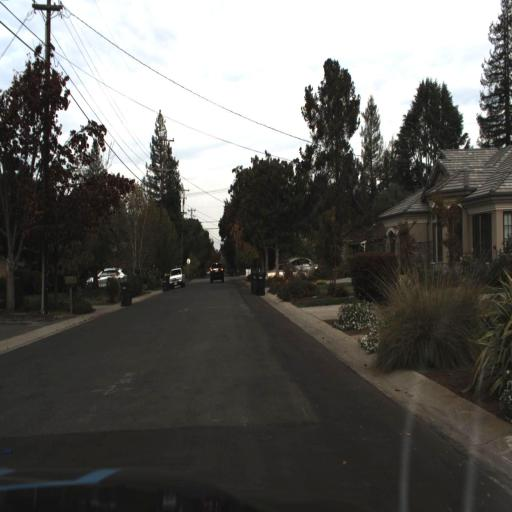car: (85, 263, 131, 298), (83, 260, 129, 291), (266, 259, 303, 290), (164, 261, 189, 288), (293, 253, 317, 276), (207, 259, 226, 285), (169, 267, 183, 288)
